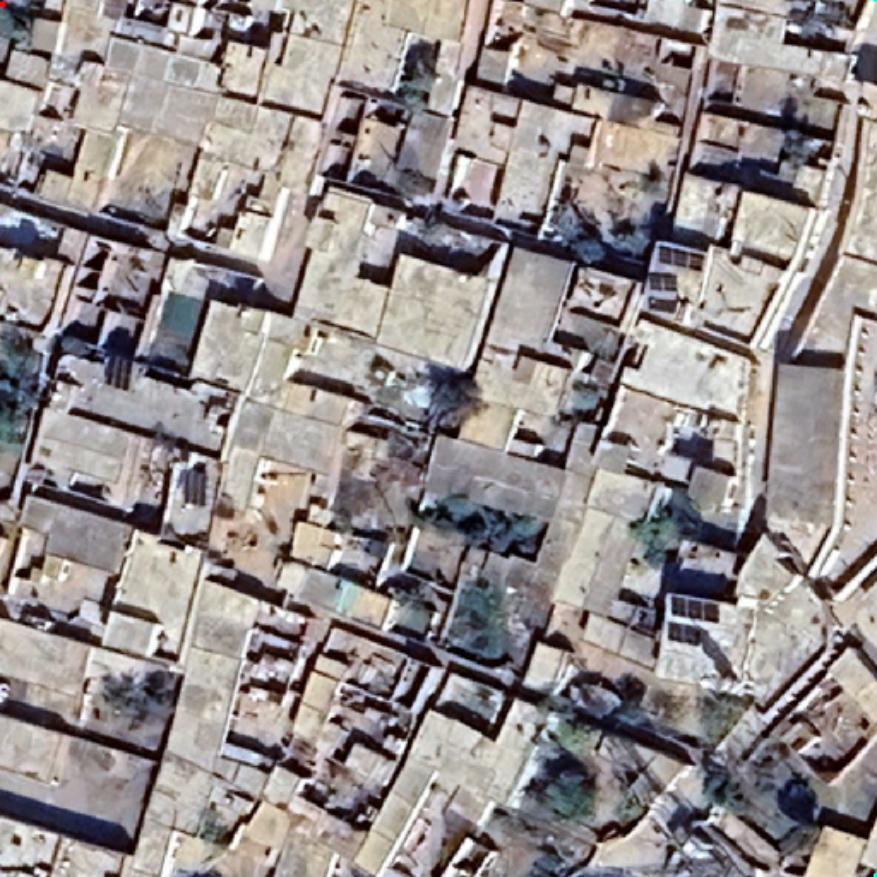Solarpanel: (664, 590, 724, 626), (652, 239, 710, 275), (179, 464, 211, 510), (664, 618, 706, 649), (104, 349, 132, 390), (644, 269, 680, 295), (645, 294, 683, 316)
